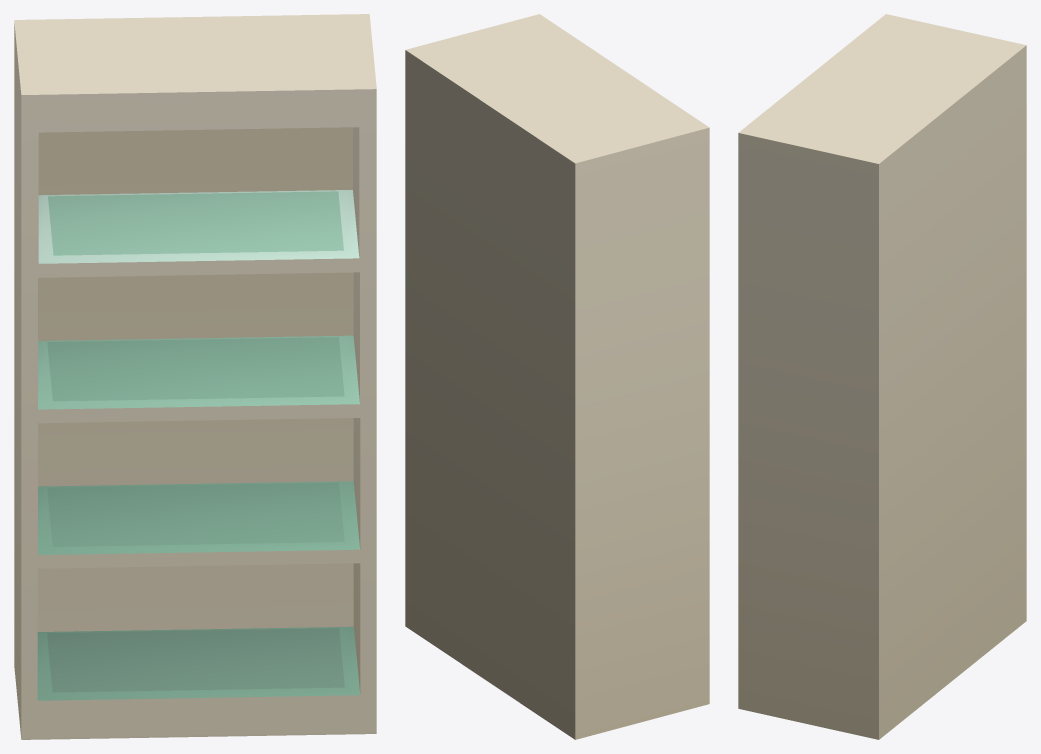
File: shelf.fbx
3 renders of one model, left to right at view 1: azimuth 30°, elevation 25°; view 2: azimuth 150°, elevation 25°; view 3: azimuth 270°, elevation 25°, orthographic. The views are drawn at different scales.
Parts seen in each view (by area): view 1: shelf; view 2: shelf; view 3: shelf.
Boxes of the visible parts, x1=… form: shelf: x1=14, y1=14, x2=376, y2=739; shelf: x1=405, y1=14, x2=709, y2=739; shelf: x1=738, y1=14, x2=1026, y2=739.
Size of the model in its own units: 794 by 1421 by 645.
1 material, 1 textured.
